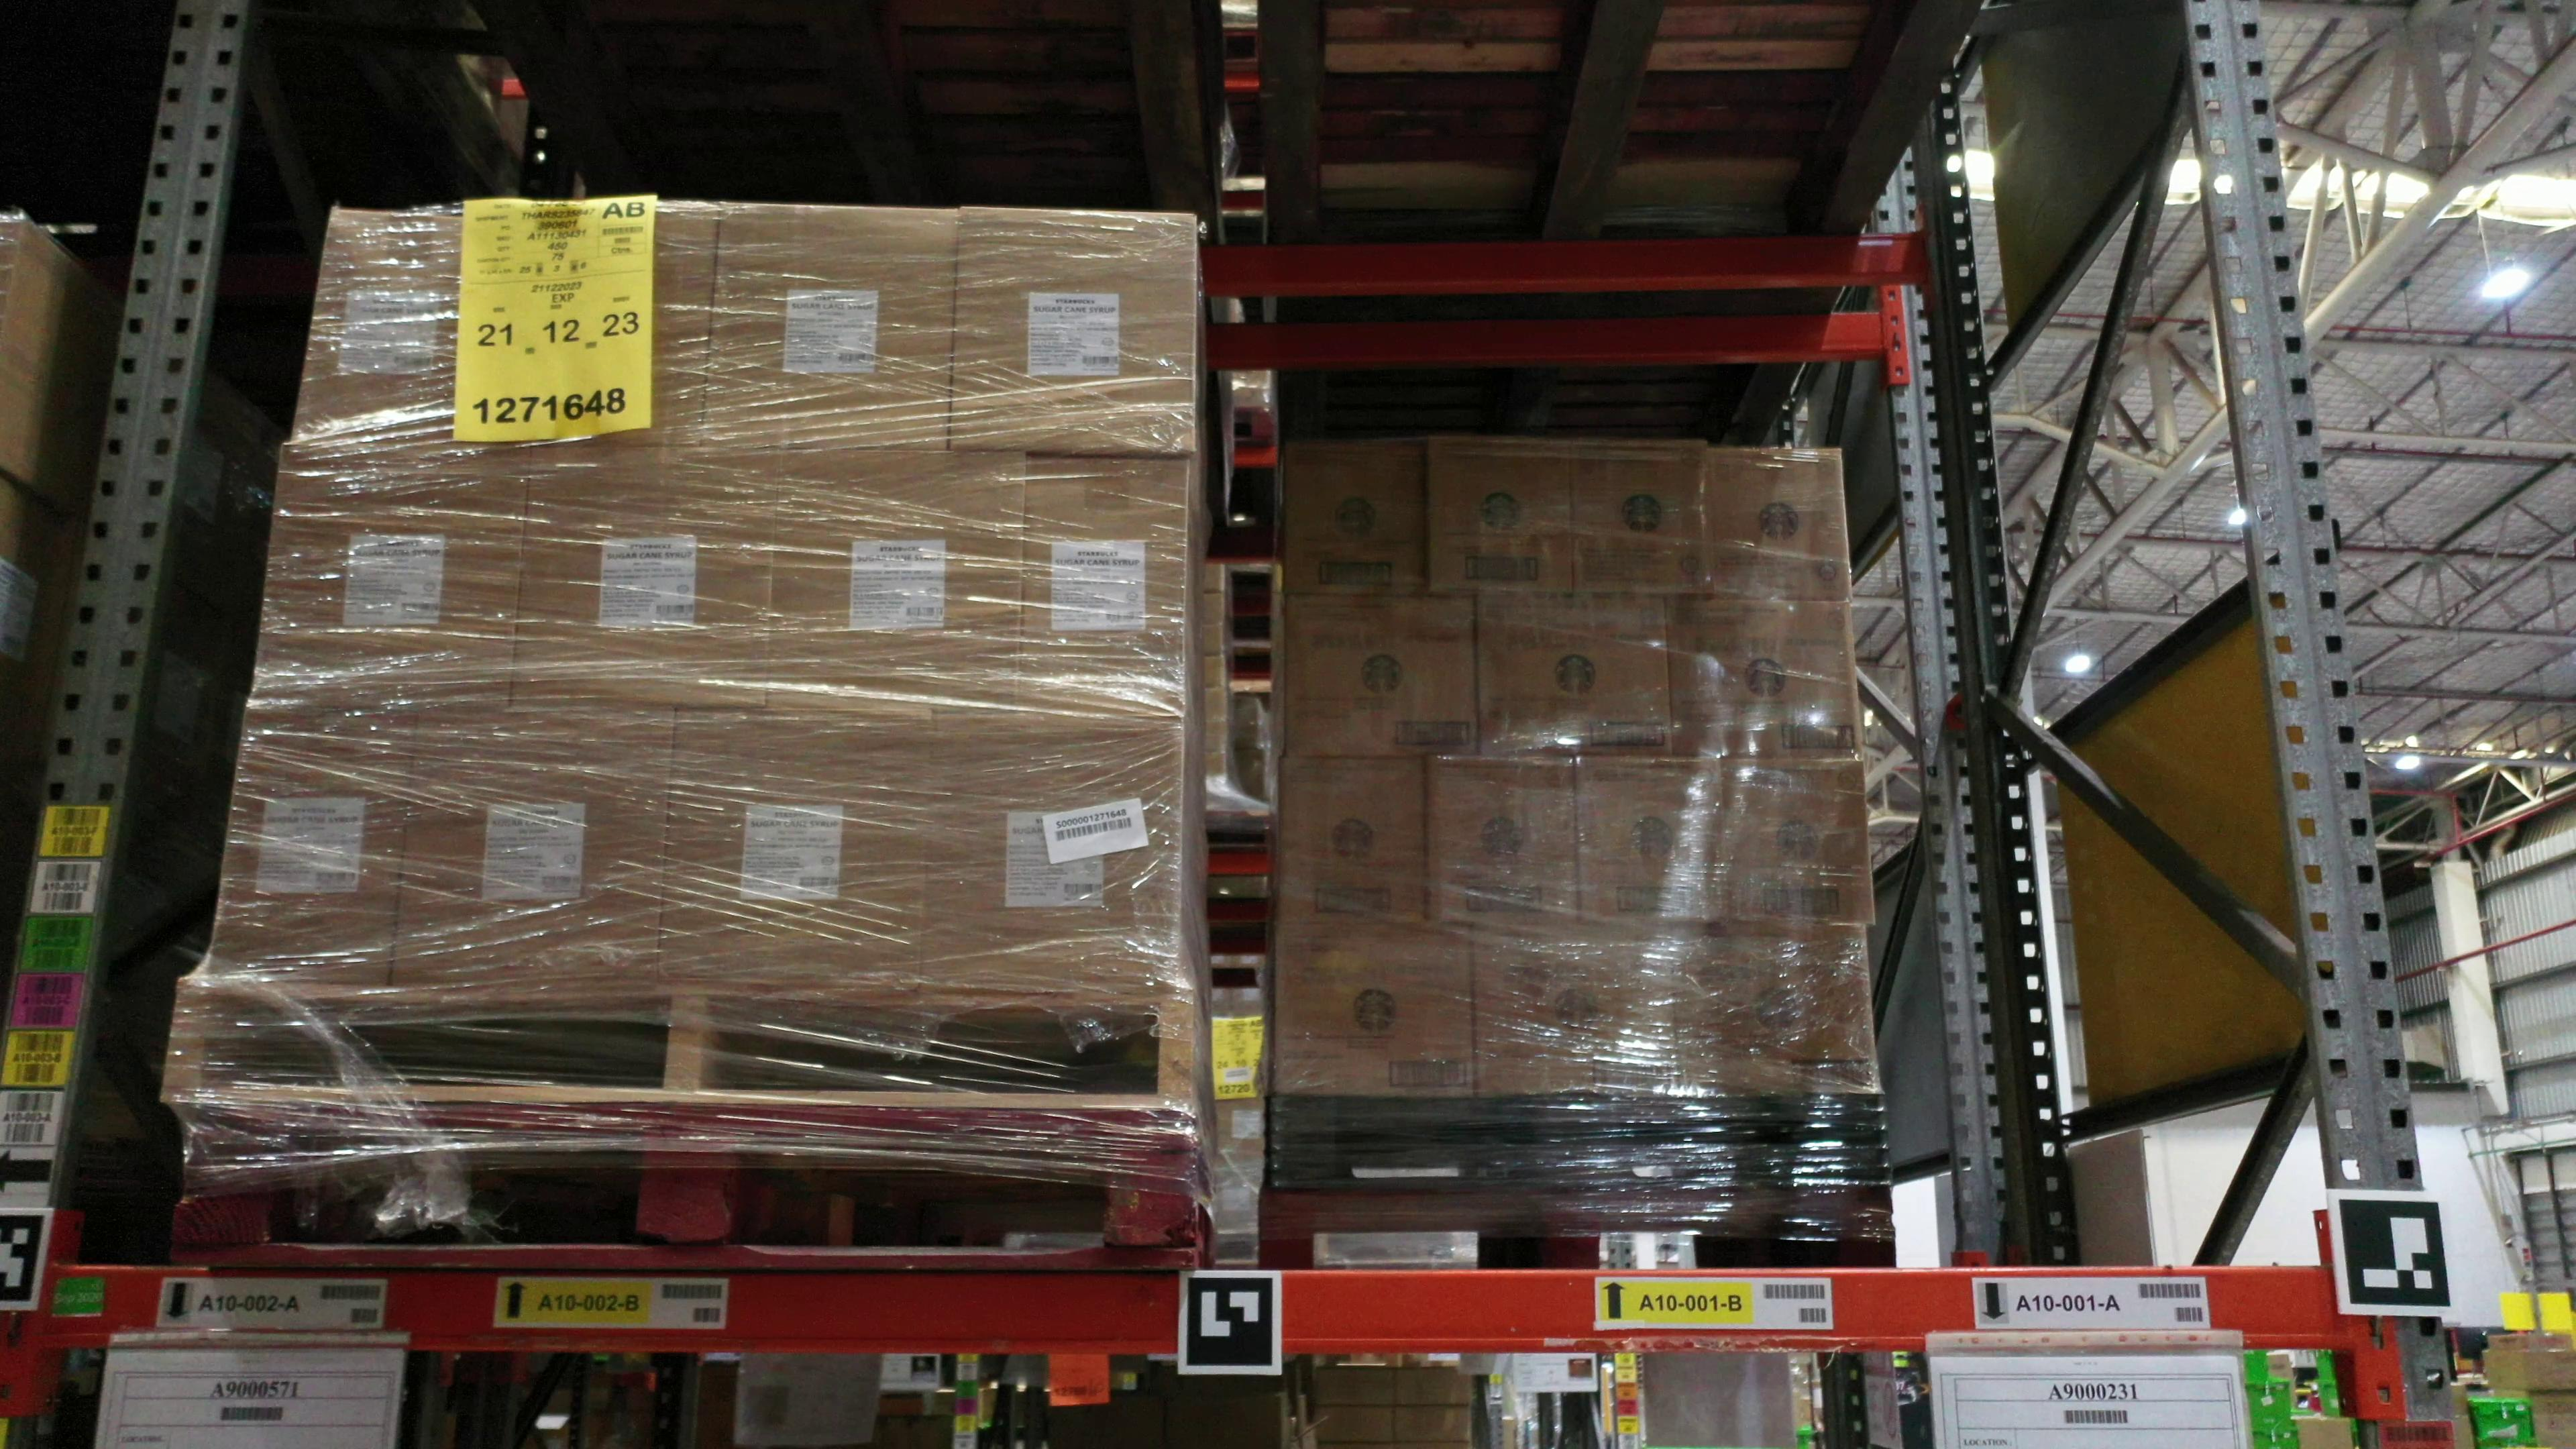-: (389, 695, 679, 984), (658, 706, 938, 984), (918, 713, 1185, 989), (511, 441, 782, 706), (253, 441, 531, 697), (768, 448, 1031, 713), (449, 203, 725, 455), (701, 203, 961, 448), (948, 205, 1198, 458), (205, 701, 416, 985), (297, 211, 478, 451), (1023, 451, 1189, 706)
box: (1468, 596, 1675, 763), (1272, 929, 1477, 1095), (1663, 596, 1861, 768), (1468, 934, 1684, 1092), (1675, 932, 1882, 1095), (1281, 591, 1477, 761), (1575, 755, 1734, 938), (1424, 755, 1578, 938), (1727, 755, 1879, 938), (1281, 761, 1431, 938), (1422, 439, 1578, 594), (1709, 449, 1851, 607), (1281, 441, 1424, 594), (1573, 441, 1711, 594)
